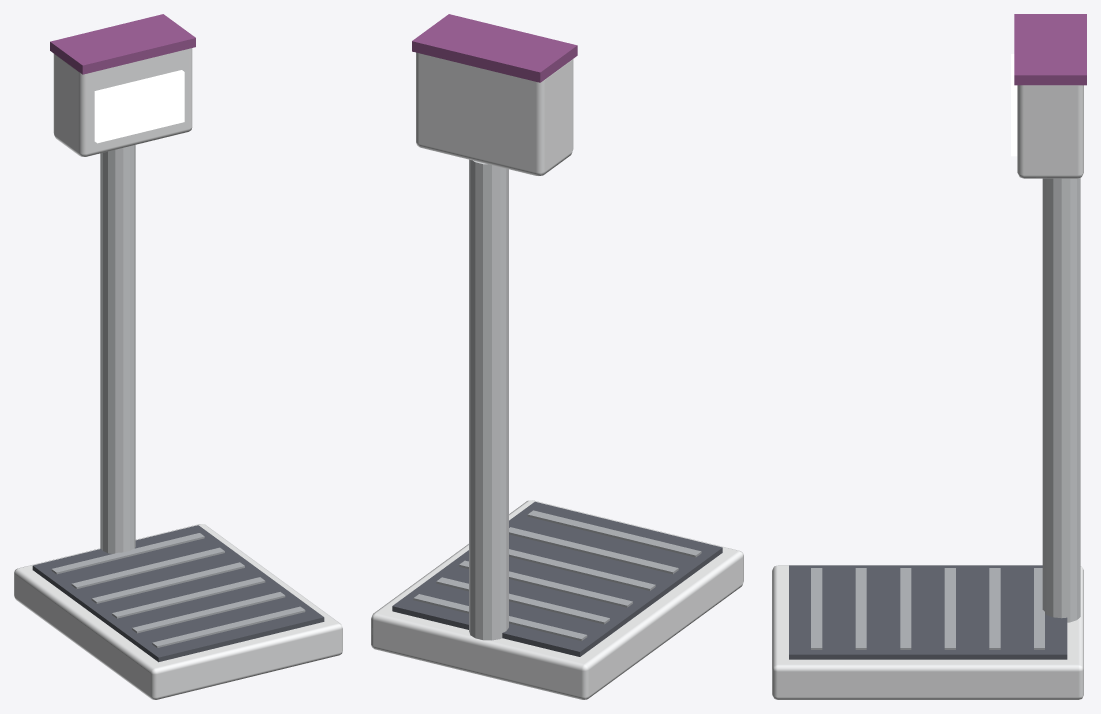
The model's file is pharmacy-and-high-street-chemist-weighing-scale-b0904b4c__37531.glb.
3 renders of one model, left to right at view 1: azimuth 30°, elevation 25°; view 2: azimuth 150°, elevation 25°; view 3: azimuth 270°, elevation 25°, orthographic. The views are drawn at different scales.
Parts seen in each view (by area): view 1: weighing-scale; view 2: weighing-scale; view 3: weighing-scale.
Boxes of the visible parts, x1,y1,x2,y2 form: weighing-scale: (14,14,342,699); weighing-scale: (371,14,743,699); weighing-scale: (772,14,1086,699).
Bounding box in the file's own units: 0.4401 × 1.2 × 0.565.
